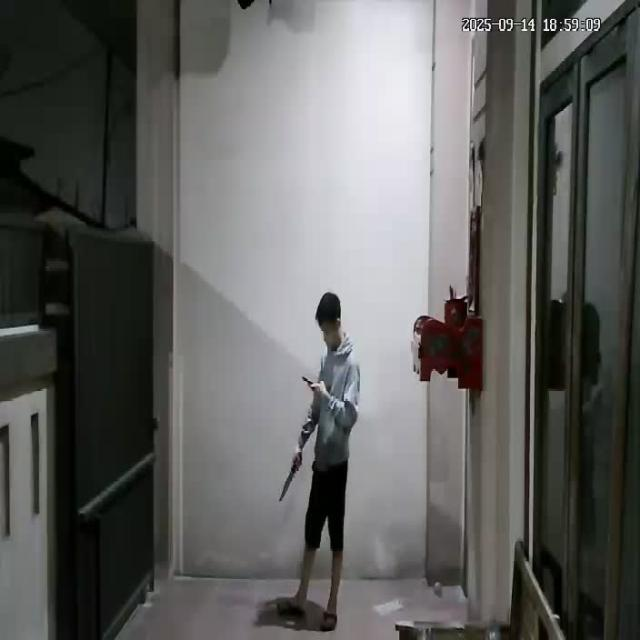senjata_tajam: (278, 468, 297, 502)
